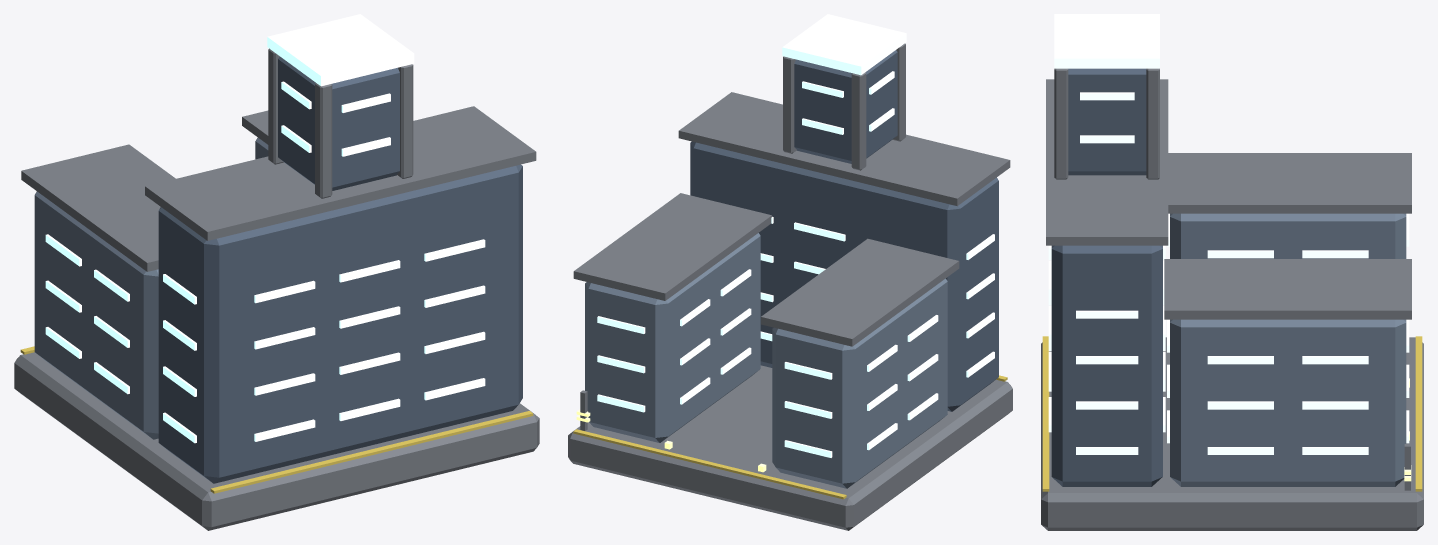
File: zone_high_3_t2.glb
3 views of the same model, side by side, from view 1: azimuth 30°, elevation 25°; view 2: azimuth 150°, elevation 25°; view 3: azimuth 270°, elevation 25° (orthographic). The views are drawn at different scales.
Visible parts, largest first — view 1: zone_high_3_t2, detail; view 2: zone_high_3_t2, detail; view 3: zone_high_3_t2, detail.
Part boxes in pixels (x1,y1,x2,y2): zone_high_3_t2: (14, 14, 539, 530); detail: (20, 346, 533, 493); zone_high_3_t2: (568, 14, 1012, 530); detail: (573, 375, 1007, 499); zone_high_3_t2: (1041, 14, 1423, 530); detail: (1042, 336, 1422, 491).
Size of the model in its own units: 27.5 by 33.03 by 27.5.
